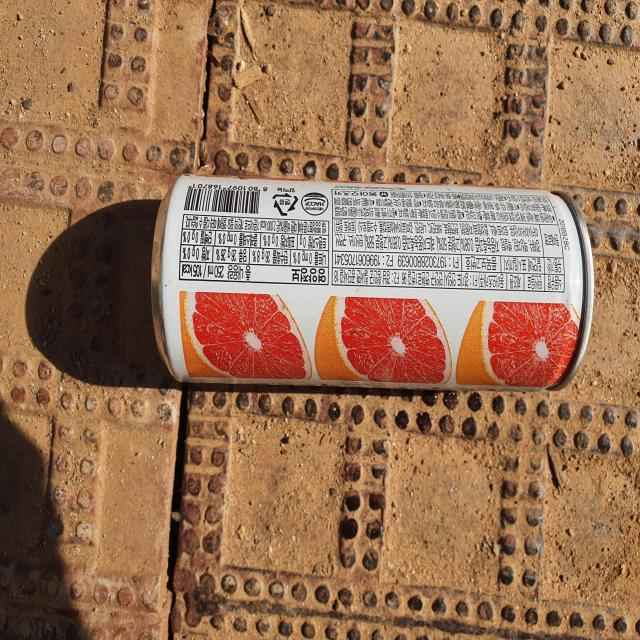can: (152, 175, 595, 390)
